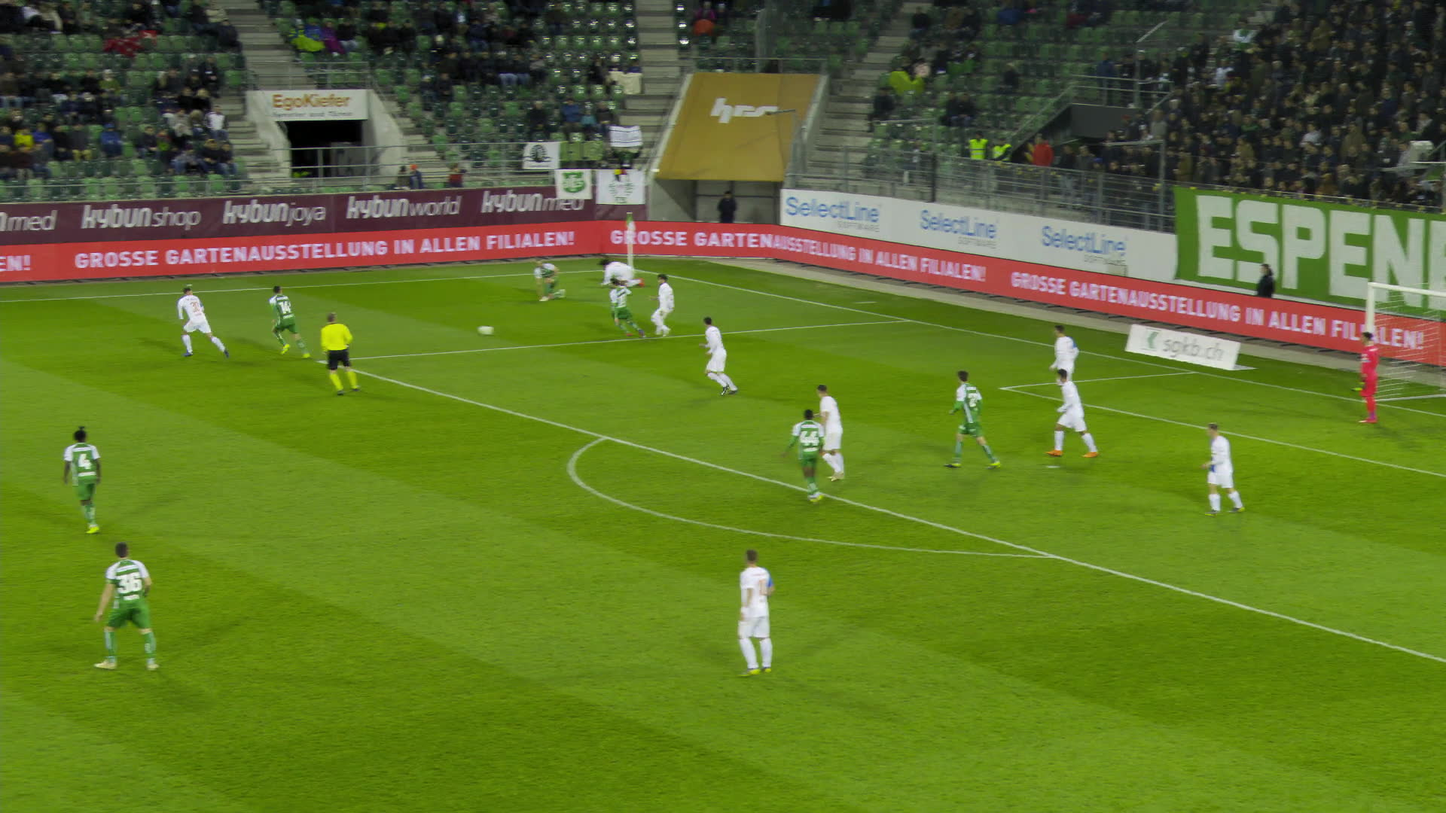ball: (480, 324, 492, 334)
player: (94, 543, 157, 671), (729, 550, 773, 678), (945, 368, 996, 470), (1046, 367, 1093, 458), (1197, 421, 1240, 516), (61, 427, 99, 534), (697, 313, 744, 397), (784, 407, 822, 507), (175, 288, 222, 361), (268, 283, 310, 358), (816, 382, 845, 480), (603, 275, 641, 341), (643, 271, 677, 338), (1351, 331, 1375, 424), (1050, 325, 1086, 383), (593, 258, 640, 290), (529, 260, 562, 300)
referee: (320, 310, 359, 394)
